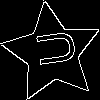U: (27, 27, 77, 70)
